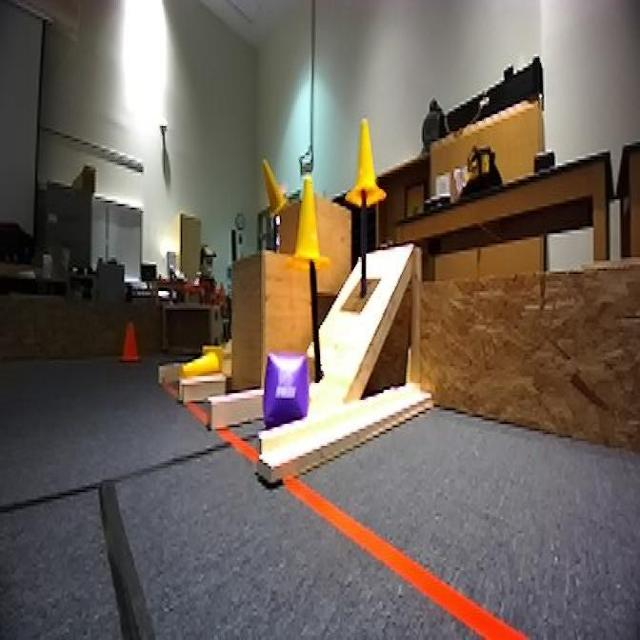frc_cone: (286, 172, 332, 274), (346, 118, 386, 210), (179, 341, 225, 386), (263, 158, 288, 218)
frc_cube: (262, 350, 307, 430)
